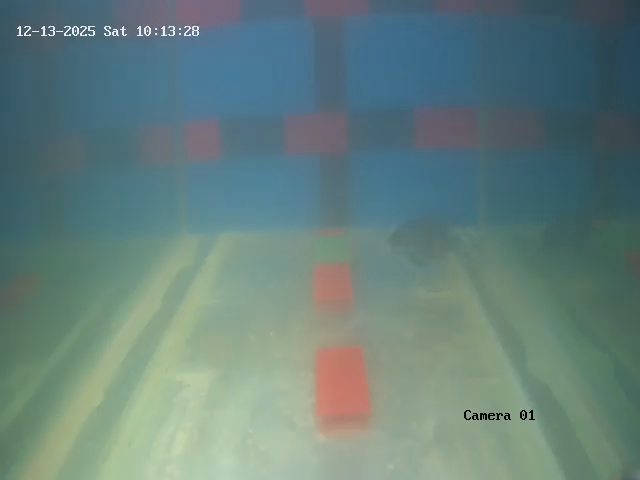fish: (387, 216, 468, 269)
